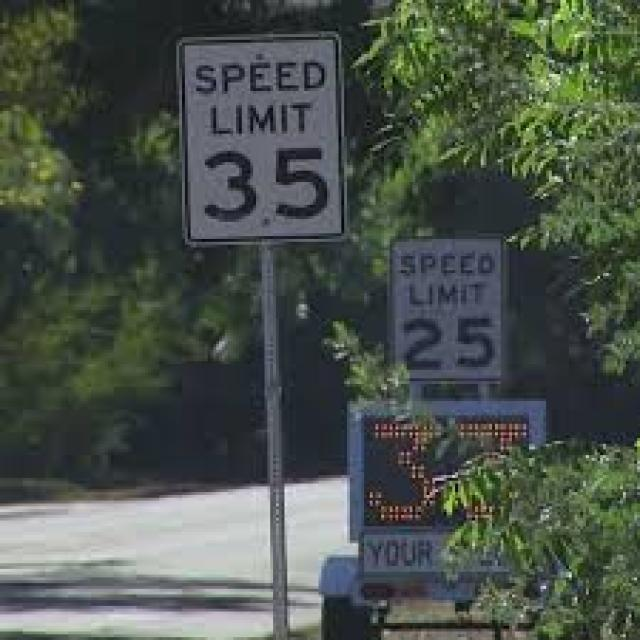speedLimit35: (178, 37, 343, 236)
